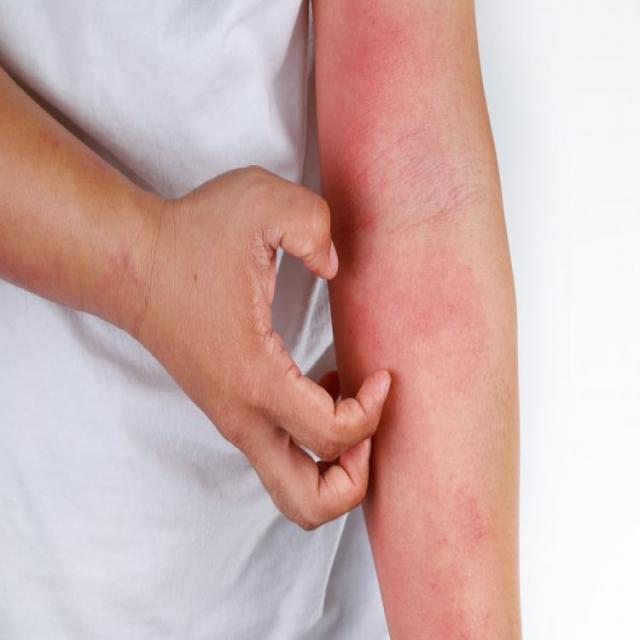eczema: (325, 32, 470, 361)
